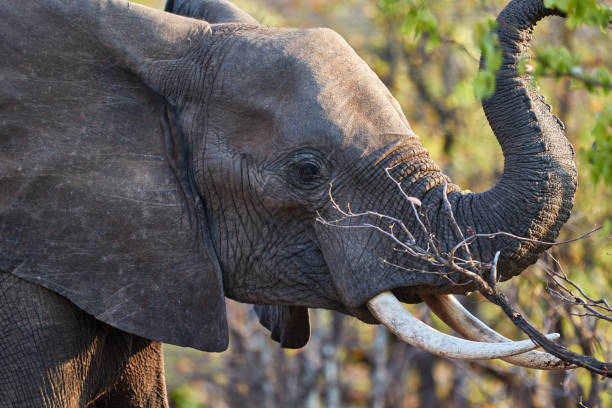africanelephant: (183, 26, 571, 368)
